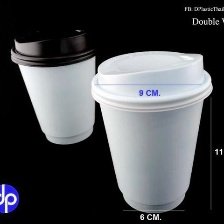paper_cup: (87, 46, 217, 216), (7, 20, 100, 148)
